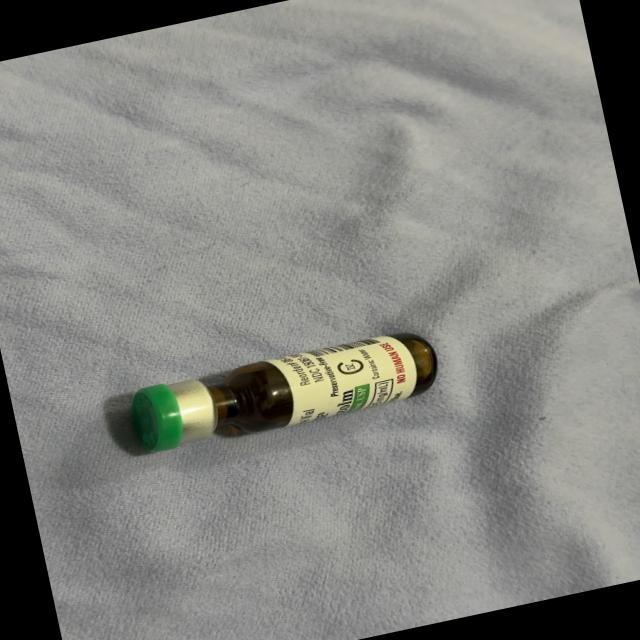midazolm: (129, 327, 439, 456)
